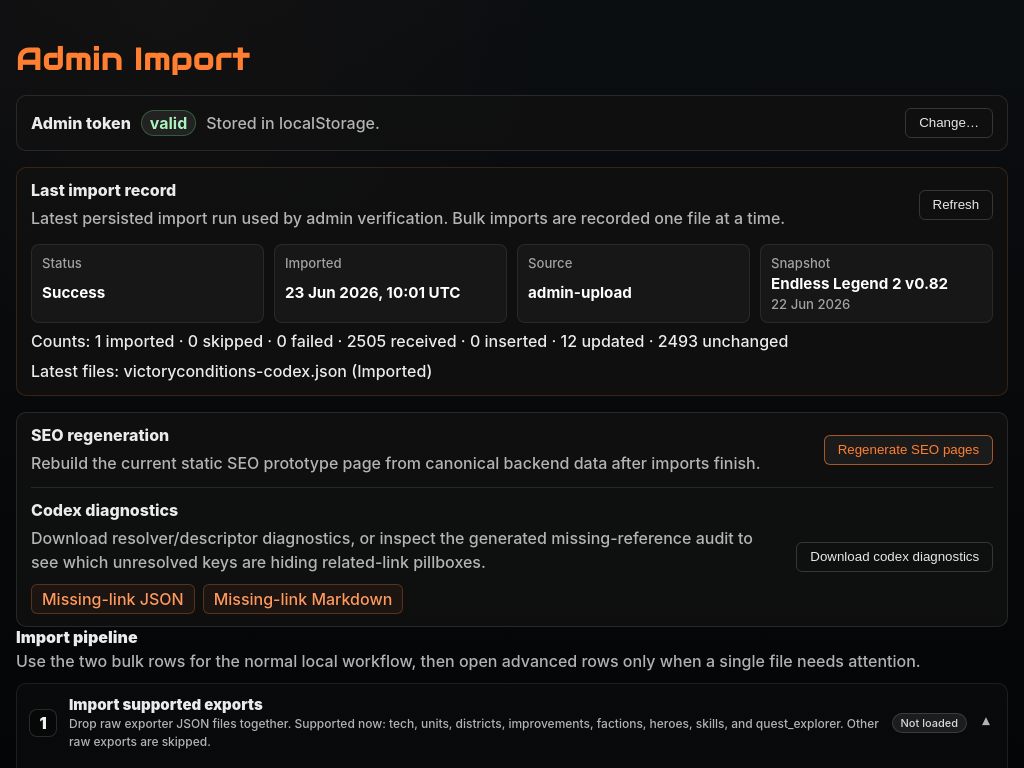
Test case: AdminImportPage › renders SEO generation as a concise summary without route key lists
Expected: the text "Use the two bulk rows for the normal local workflow" is shown, [16,651,921,671]
Click the button "Regenerate SEO pages" at x=908, y=450, box [824,435,993,465]
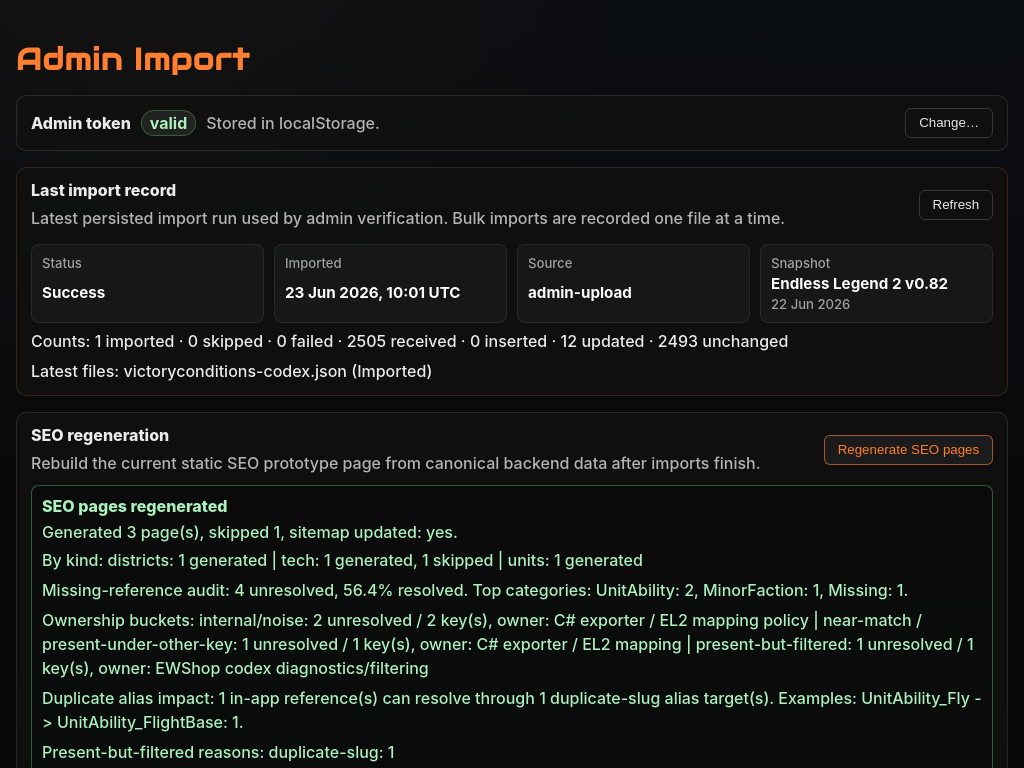
Result: the text "Generated 3 page(s), skipped 1, sitemap updated: yes." is shown at [42,522,458,542]
Result: the text "By kind:" shows "districts: 1 generated" at [108,550,643,570]
Result: the text "By kind:" shows "tech: 1 generated, 1 skipped" at [108,550,643,570]
